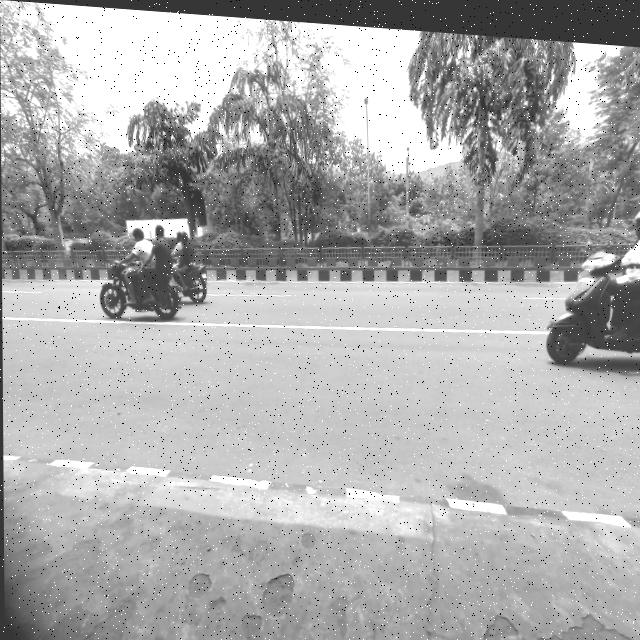bike: (537, 237, 639, 354), (101, 252, 195, 324)
